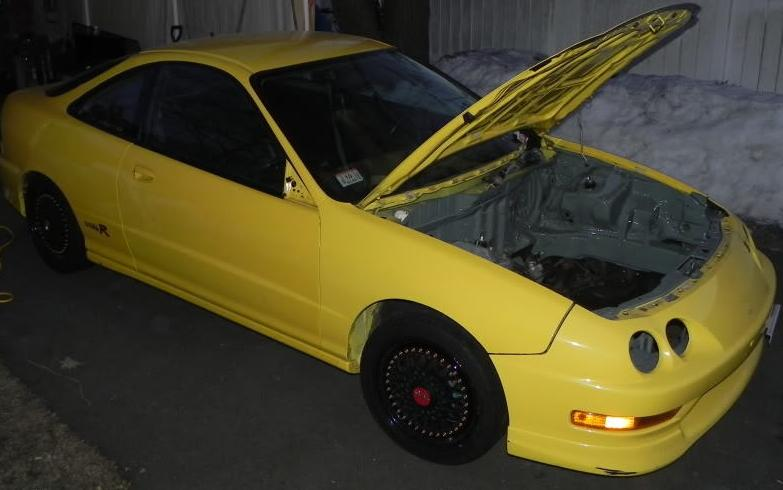front_view: (517, 216, 780, 469)
headlight: (625, 320, 699, 366)
side_glass: (69, 48, 314, 209)
